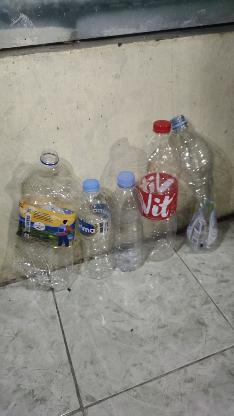Plastic Bottle: (15, 150, 81, 292), (165, 103, 223, 249), (139, 118, 181, 250), (70, 169, 119, 282), (110, 170, 142, 272)
